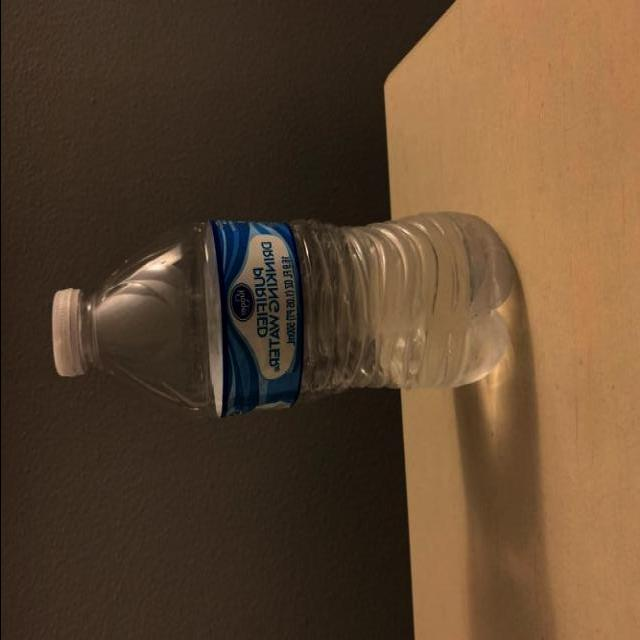cap: (48, 282, 86, 381)
label: (210, 218, 307, 416)
not-crumbled: (43, 208, 520, 420)
